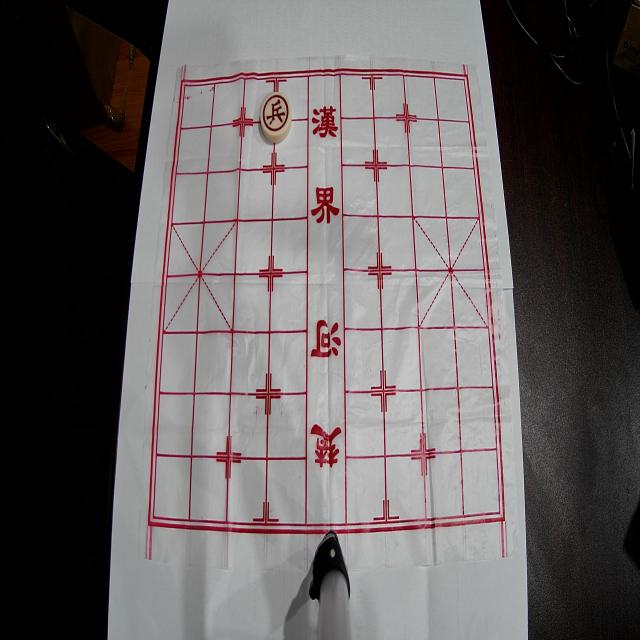red-soldier: (260, 92, 292, 143)
